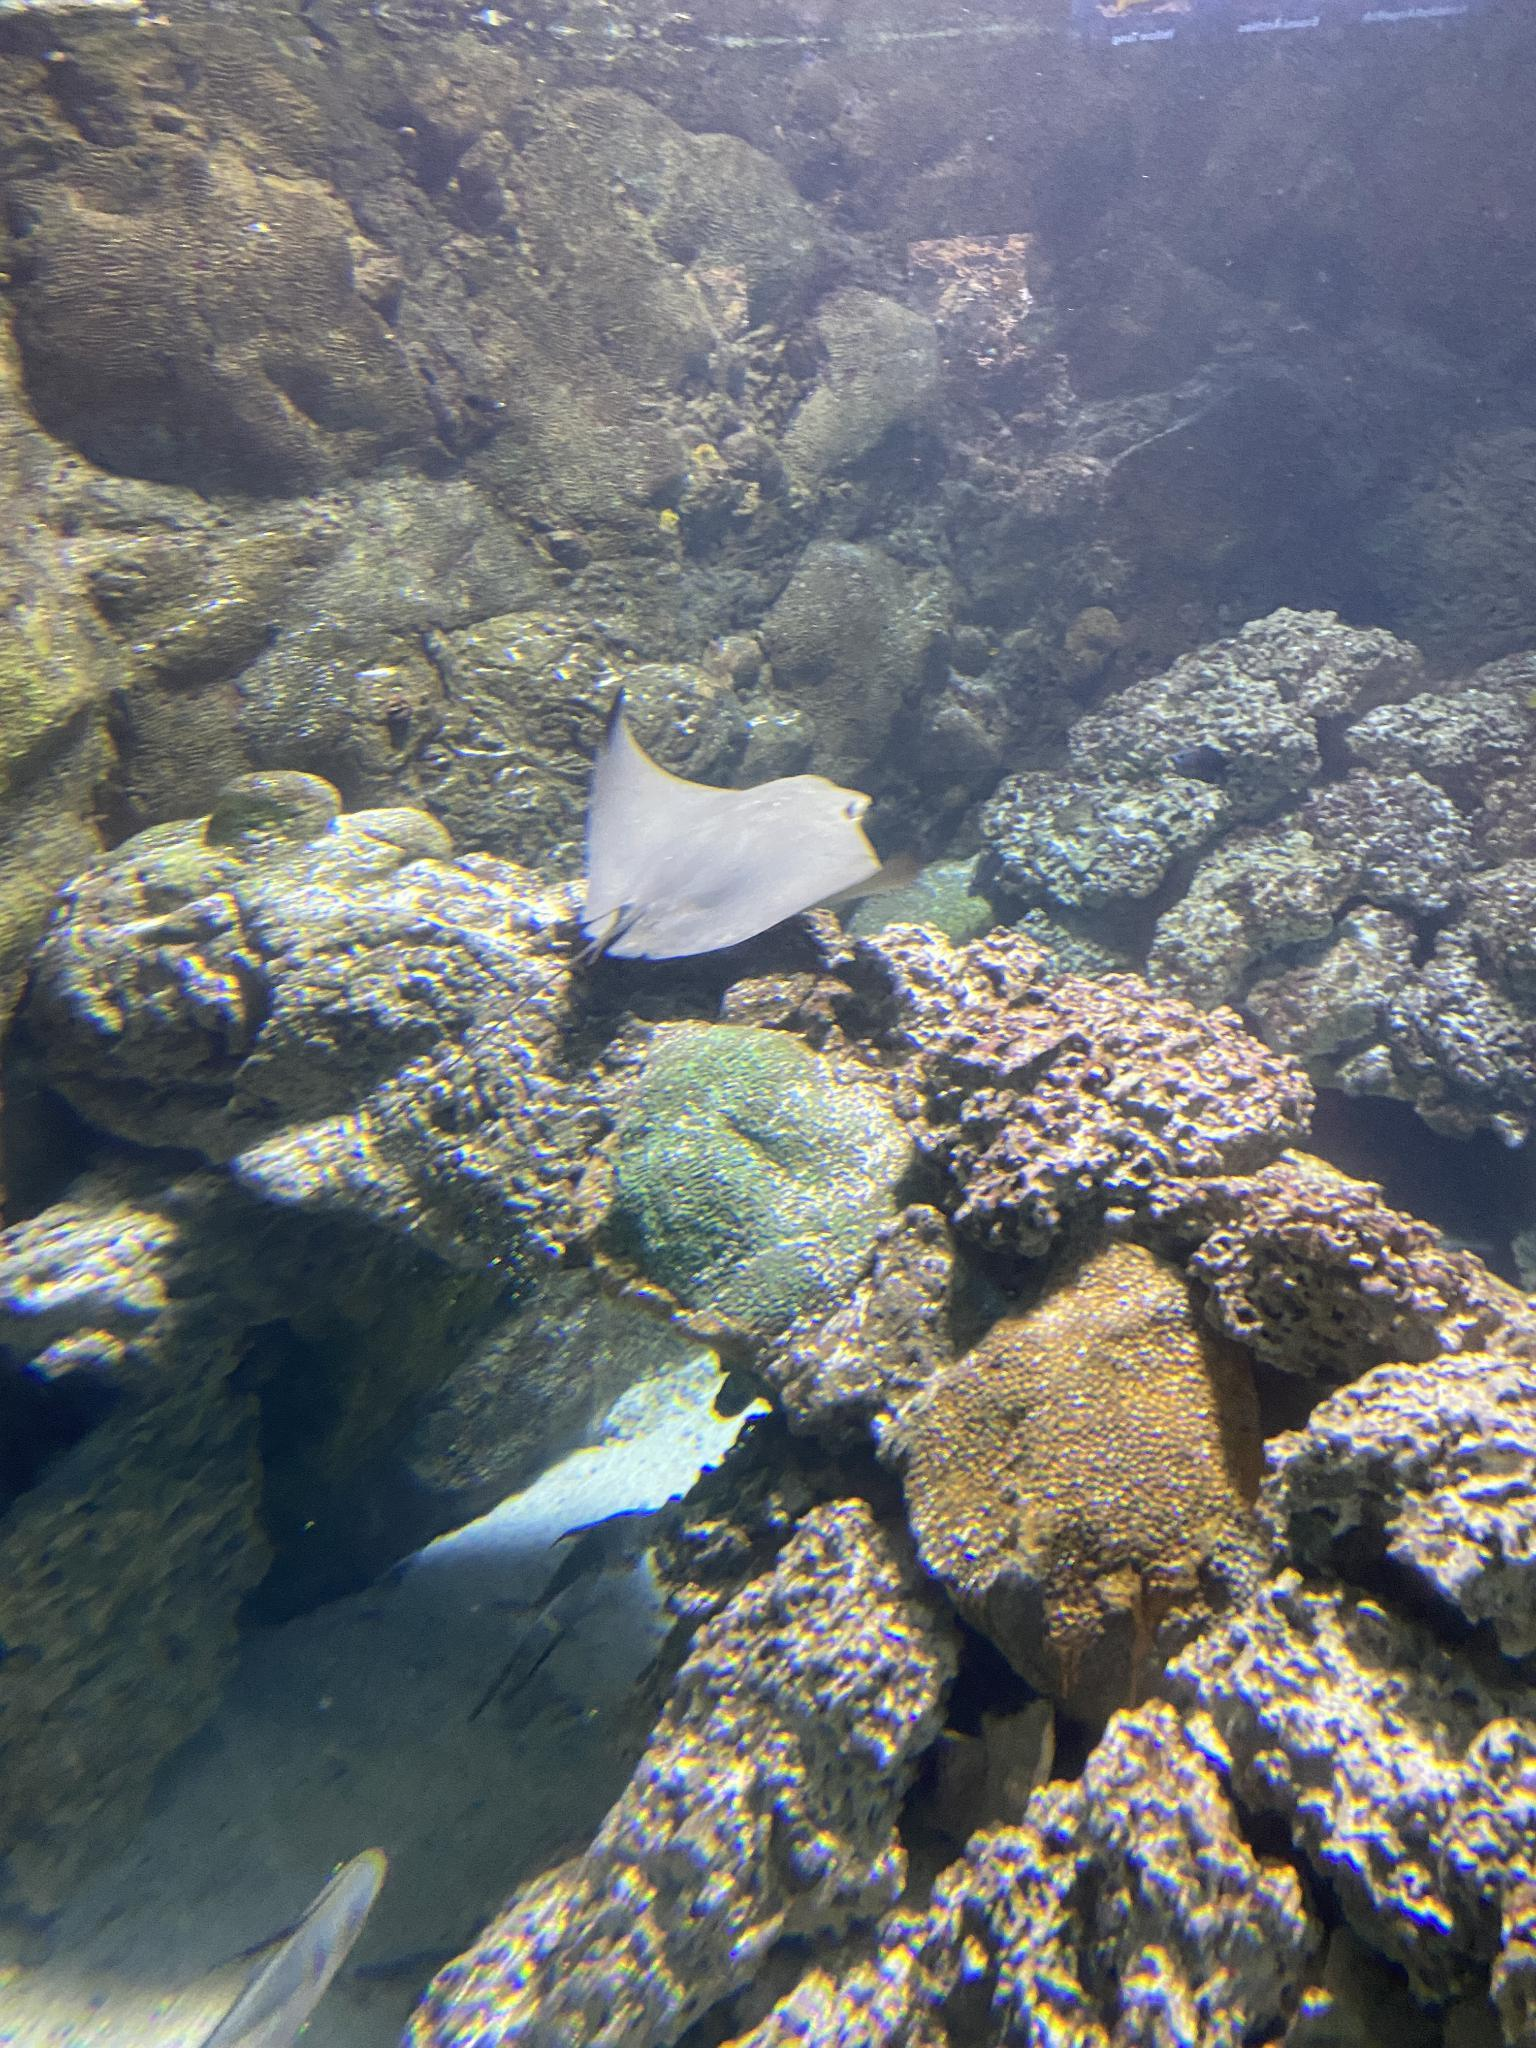fish: (198, 1846, 389, 2046), (482, 1508, 662, 1713)
stingray: (582, 685, 881, 959)
